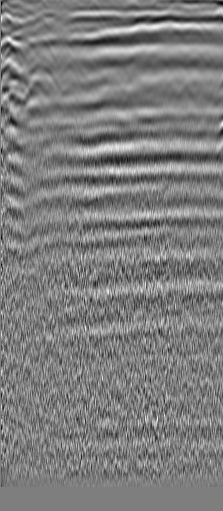오수: (29, 11, 49, 31)
우수: (176, 15, 196, 35)
